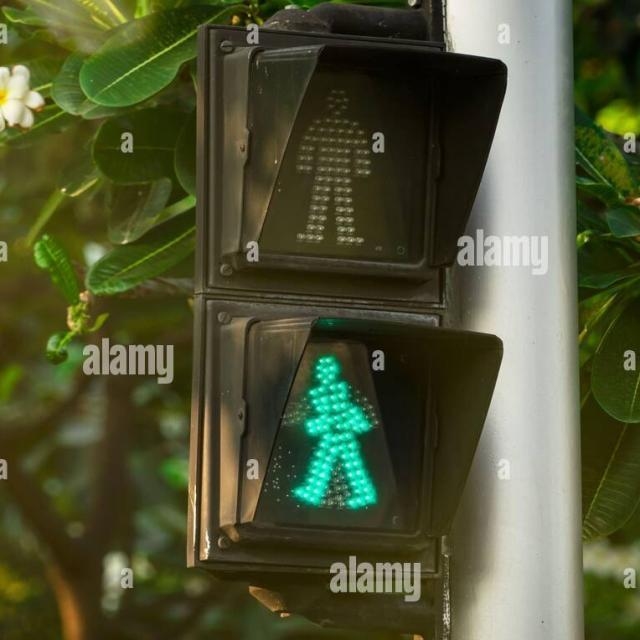geen-crossing: (284, 330, 374, 521)
